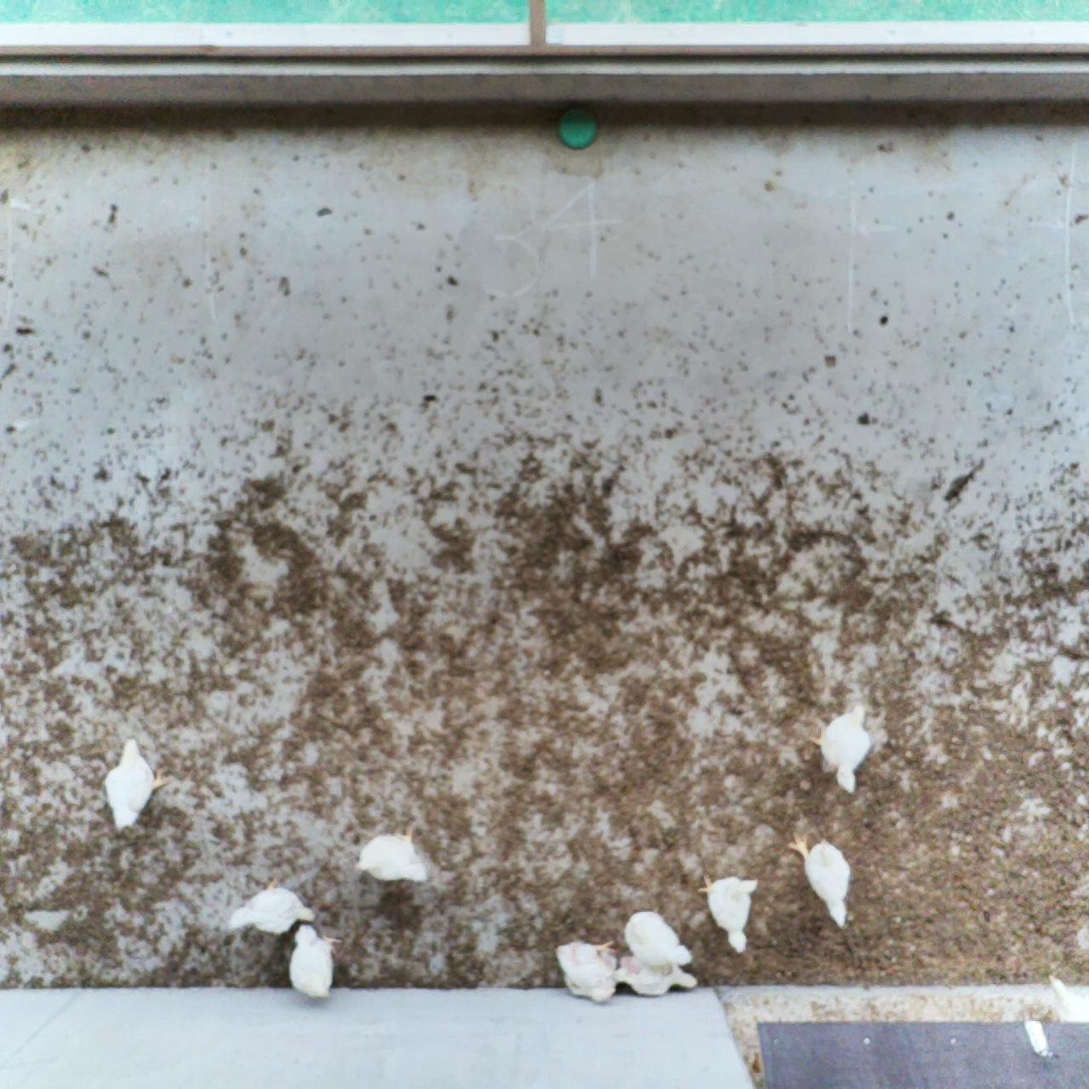chicken: (783, 830, 855, 932), (810, 701, 880, 796), (100, 733, 166, 832), (227, 878, 319, 939), (698, 872, 760, 956), (284, 917, 345, 1001), (615, 907, 697, 968), (353, 826, 434, 887), (554, 937, 620, 1006), (611, 948, 700, 999), (1041, 969, 1089, 1025)
